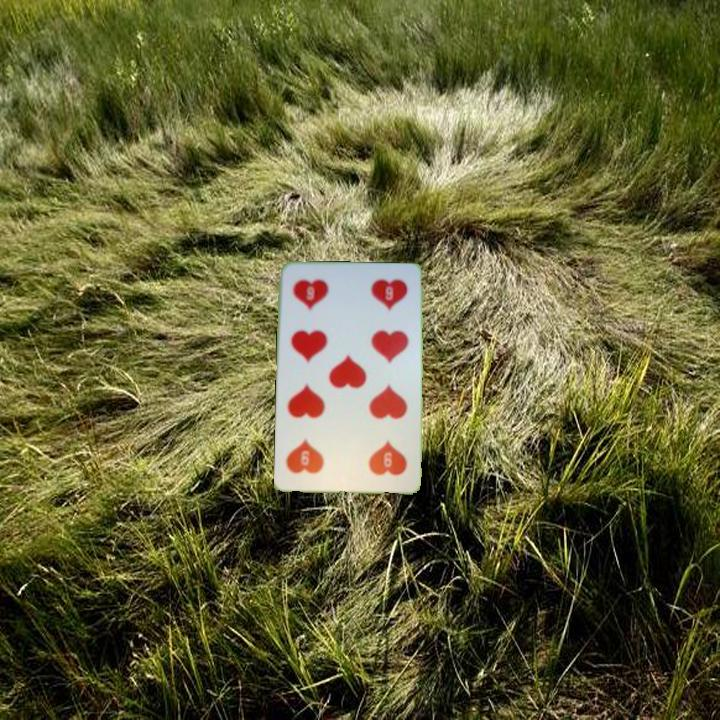h_9.png: (286, 270, 355, 330), (344, 425, 413, 484)
